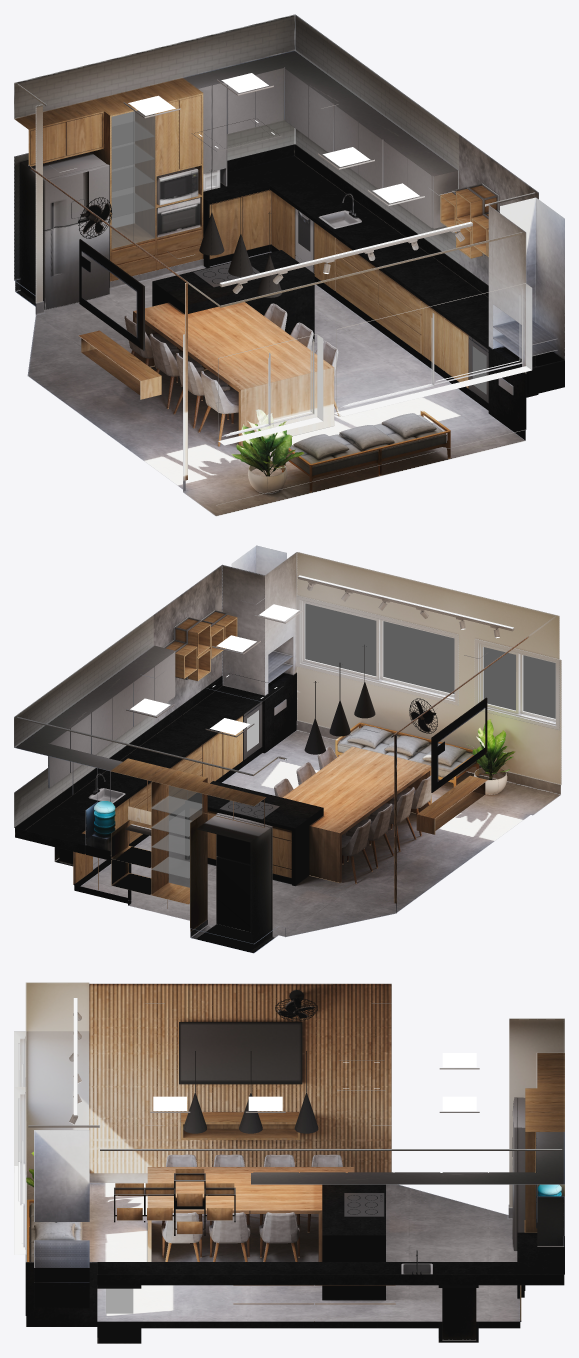
File: Cozinha.glb
The picture shows the model from 3 angles, top to bottom: view 1: azimuth 30°, elevation 25°; view 2: azimuth 150°, elevation 25°; view 3: azimuth 270°, elevation 25°; orthographic projection. The views are drawn at different scales.
Parts seen in each view (by area): view 1: Box005_Material #2146805349_0 (×2), Object033_Material #2146805350_0, Box017_Material #2146802778_0, Object008_Material #2146802812_0, Object030_Material #2146802825_0; view 2: Box005_Material #2146805349_0 (×2), Object033_Material #2146805350_0, Box046_Material #2146802824_0, Box017_Material #2146802778_0, Object008_Material #2146802812_0; view 3: Box005_Material #2146805349_0 (×2), Object033_Material #2146805350_0, Object008_Material #2146802812_0, Object032_Material #112_0.
Boxes of the visible parts, left/top/right/bottom form: Box005_Material #2146805349_0 (×2): left=14, top=14, right=564, bottom=516; Object033_Material #2146805350_0: left=152, top=144, right=564, bottom=440; Box017_Material #2146802778_0: left=111, top=110, right=155, bottom=248; Object008_Material #2146802812_0: left=128, top=73, right=419, bottom=273; Object030_Material #2146802825_0: left=112, top=112, right=134, bottom=227; Box005_Material #2146805349_0 (×2): left=14, top=545, right=564, bottom=953; Object033_Material #2146805350_0: left=14, top=672, right=323, bottom=905; Box046_Material #2146802824_0: left=305, top=603, right=555, bottom=718; Box017_Material #2146802778_0: left=151, top=785, right=202, bottom=887; Object008_Material #2146802812_0: left=130, top=604, right=499, bottom=734; Box005_Material #2146805349_0 (×2): left=14, top=982, right=564, bottom=1340; Object033_Material #2146805350_0: left=25, top=1184, right=564, bottom=1343; Object008_Material #2146802812_0: left=70, top=1053, right=476, bottom=1123; Object032_Material #112_0: left=106, top=1288, right=133, bottom=1313.
Bounding box in the file's own units: 5.02 × 2.78 × 6.93.
7 materials, 2 textured.
